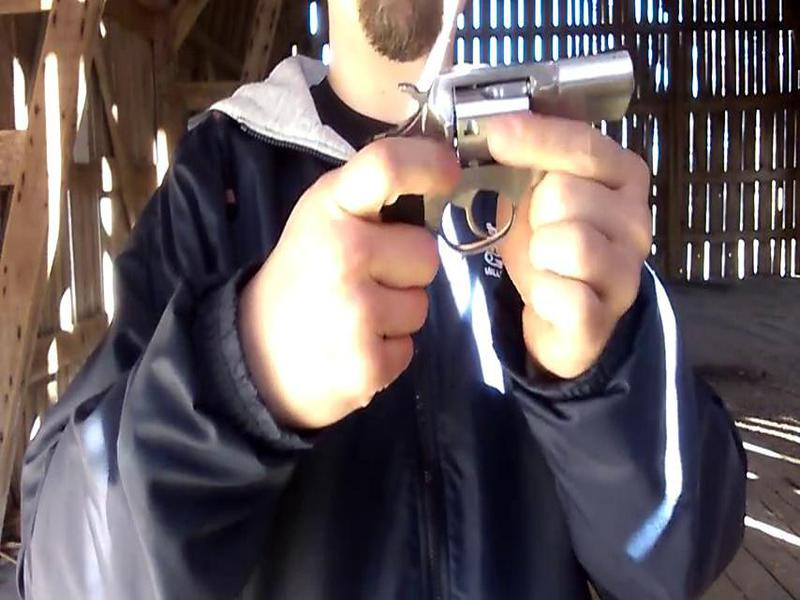Revolver: (325, 41, 684, 289)
